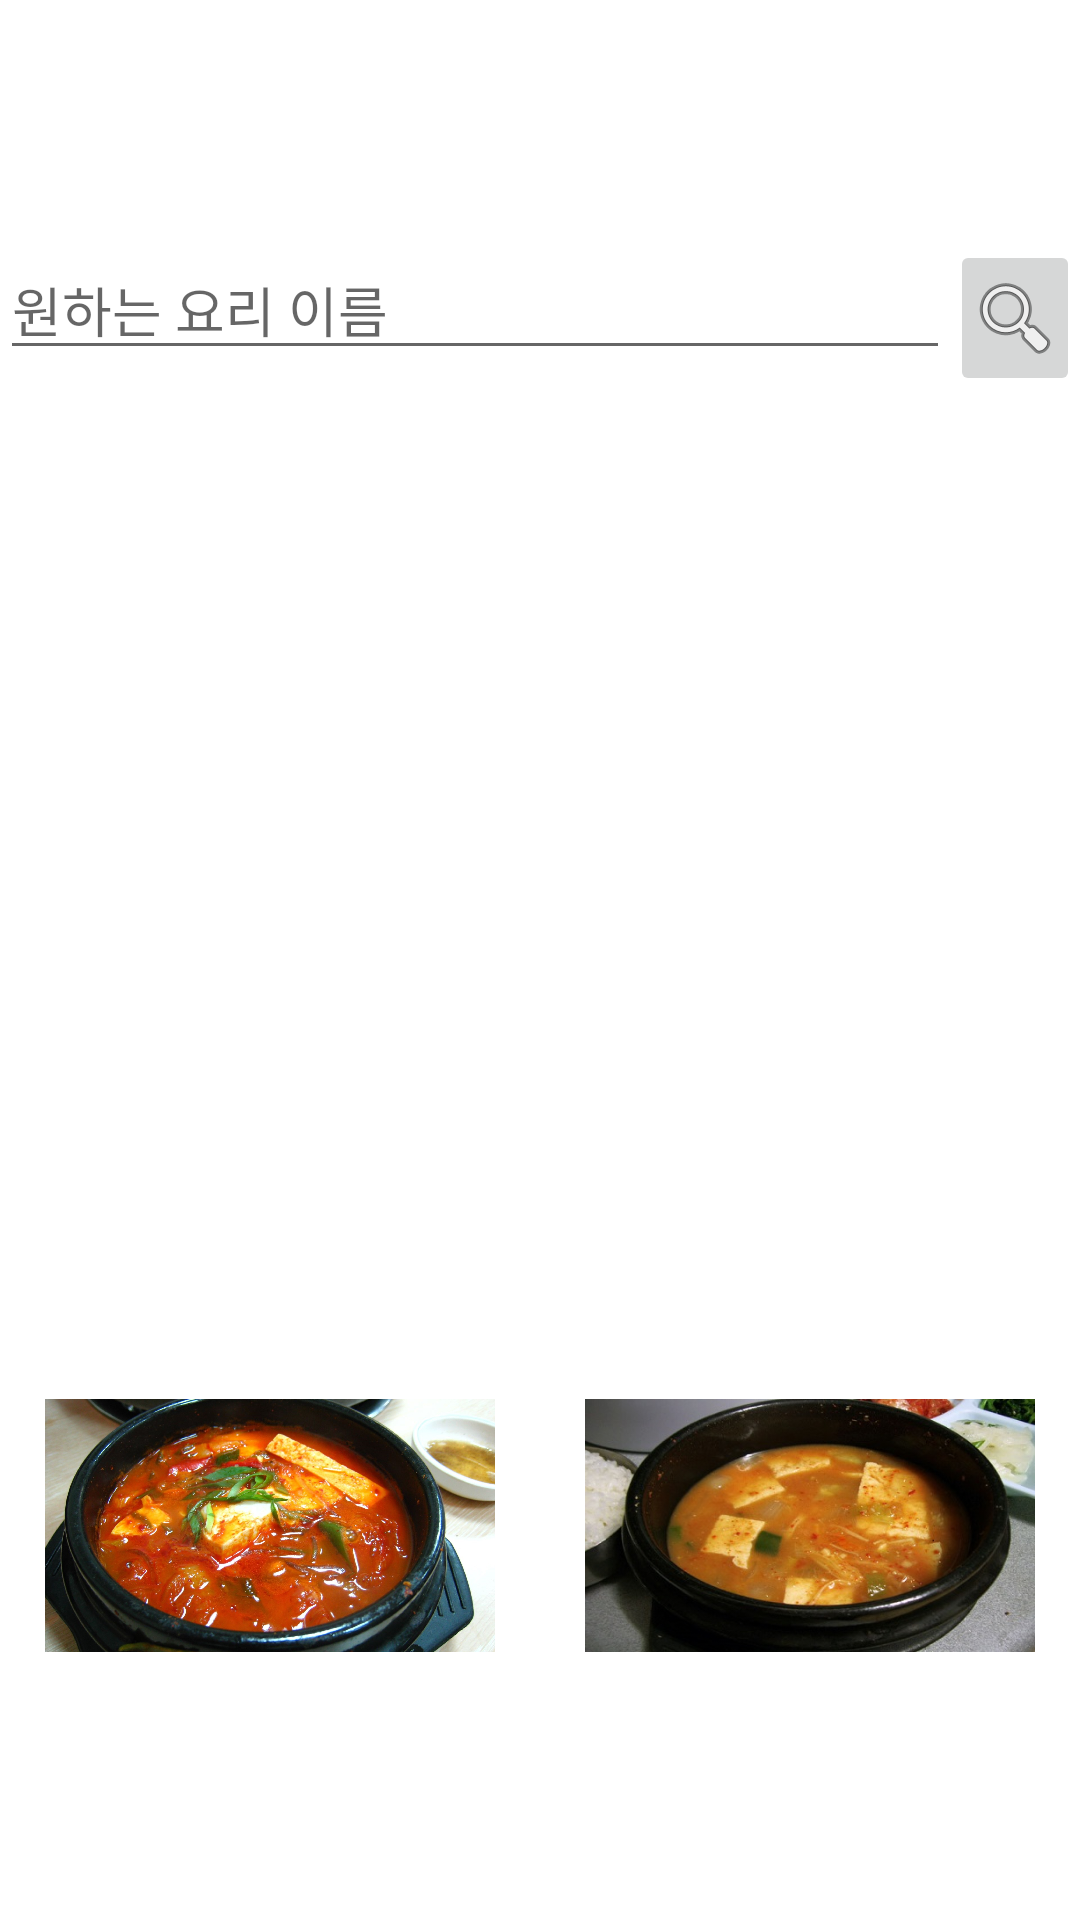

Named icons in this screenshot (1080x1920) and their bounding boxes, (x1, y1, x2, y2):
search: (962, 258, 1068, 378)
